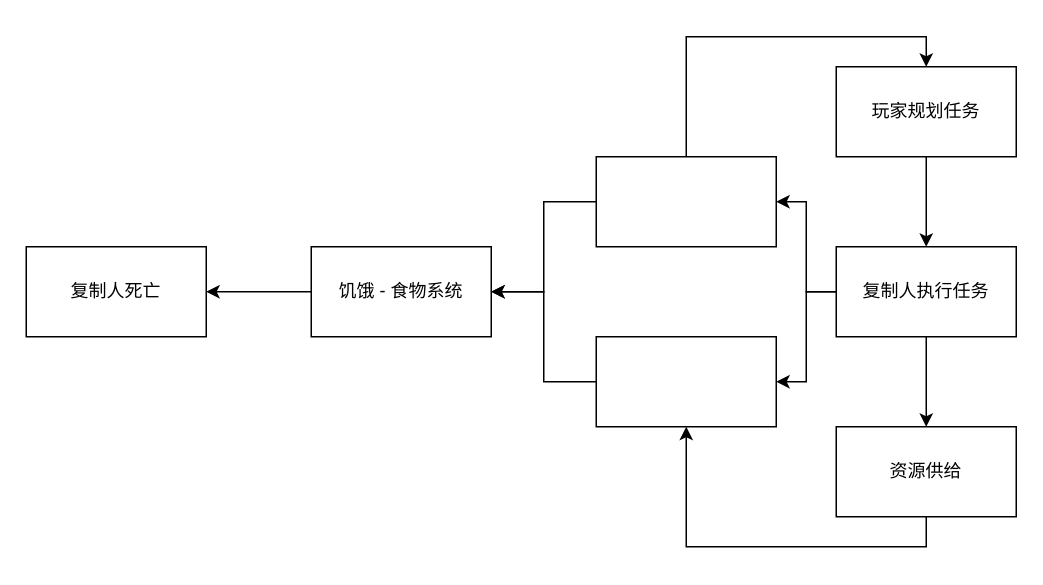
Image size: 1043x585. Some labels were removed from this diagram. Here are the shapes that lost their labels. From the top down, the box of each, then its label:
(595, 155, 776, 247): 建造设施 生产资源
(595, 335, 776, 427): 探索地图 寻找资源
